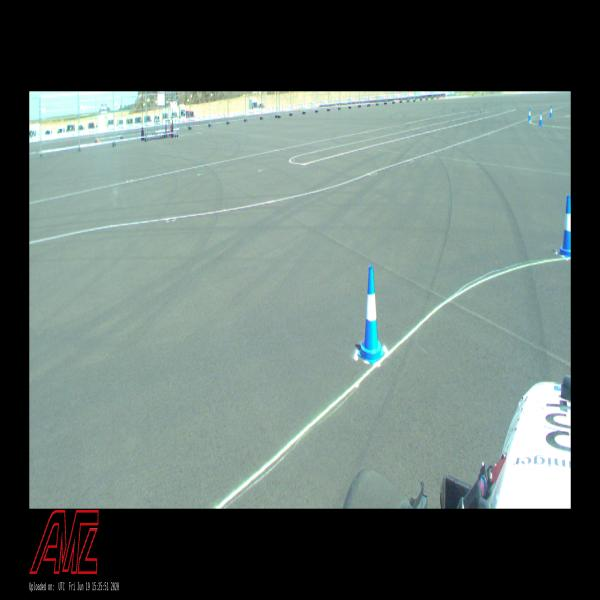blue_cone: (357, 264, 385, 364), (557, 194, 571, 258), (539, 111, 543, 126), (549, 105, 553, 118), (528, 108, 531, 120)
